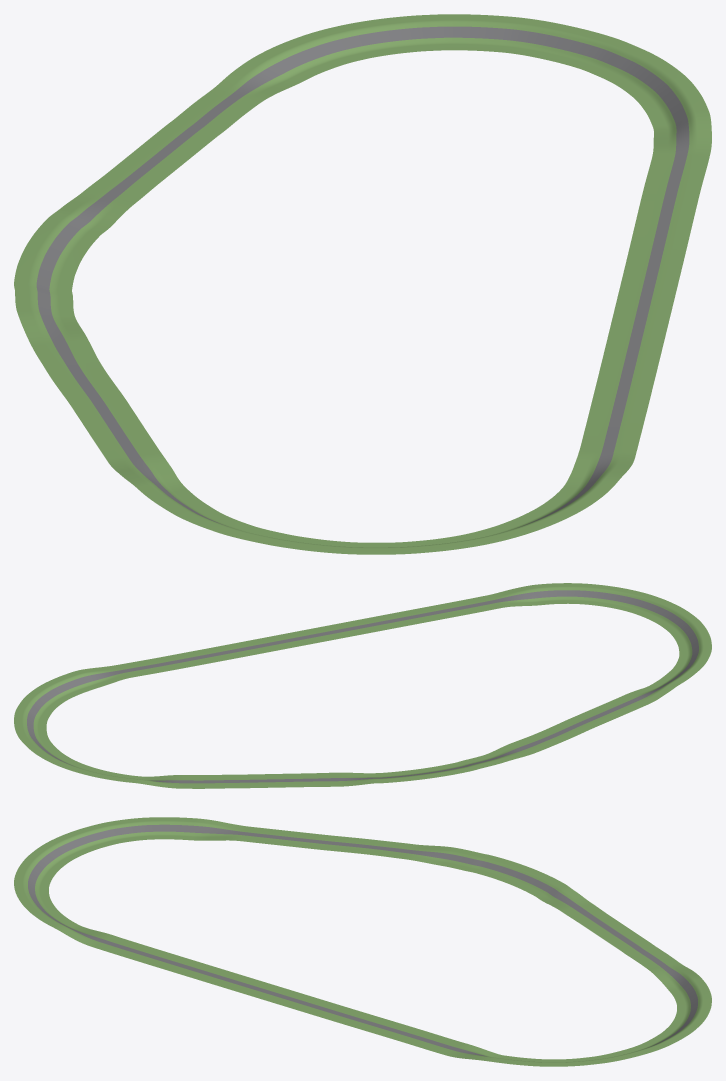
File: road_mesh.glb
3 views of the same model, one above another, from view 1: azimuth 30°, elevation 25°; view 2: azimuth 150°, elevation 25°; view 3: azimuth 270°, elevation 25° (orthographic). The views are drawn at different scales.
Visible parts, largest first — view 1: road_17, road_18, road_16, road_15, road_19, road_22, road_14, road_21, road_01, road_00, road_12, road_10 (+11 smaller); view 2: road_07, road_08, road_06, road_15, road_14, road_05, road_12, road_10, road_09, road_11, road_13, road_16 (+11 smaller); view 3: road_04, road_05, road_00, road_22, road_06, road_03, road_01, road_21, road_19, road_02, road_12, road_10 (+11 smaller).
Part boxes in pixels (left/top/right/bottom): road_17: left=380, top=14, right=527, bottom=53; road_18: left=260, top=19, right=396, bottom=81; road_16: left=511, top=18, right=648, bottom=79; road_15: left=607, top=52, right=707, bottom=124; road_19: left=185, top=54, right=302, bottom=121; road_22: left=19, top=207, right=114, bottom=271; road_14: left=648, top=108, right=711, bottom=175; road_21: left=62, top=159, right=174, bottom=222; road_01: left=20, top=320, right=106, bottom=379; road_00: left=14, top=260, right=77, bottom=323; road_12: left=621, top=228, right=690, bottom=286; road_10: left=593, top=339, right=663, bottom=397; road_07: left=566, top=583, right=645, bottom=611; road_08: left=486, top=583, right=566, bottom=608; road_06: left=628, top=593, right=699, bottom=632; road_15: left=22, top=672, right=90, bottom=711; road_14: left=71, top=660, right=153, bottom=689; road_05: left=670, top=620, right=711, bottom=660; road_12: left=210, top=635, right=292, bottom=660; road_10: left=348, top=608, right=430, bottom=634; road_09: left=418, top=595, right=499, bottom=621; road_11: left=279, top=622, right=360, bottom=647; road_13: left=142, top=648, right=222, bottom=673; road_16: left=14, top=700, right=52, bottom=739; road_04: left=118, top=817, right=204, bottom=841; road_05: left=45, top=820, right=128, bottom=859; road_00: left=433, top=846, right=518, bottom=879; road_22: left=497, top=863, right=575, bottom=903; road_06: left=14, top=843, right=72, bottom=887; road_03: left=201, top=819, right=285, bottom=845; road_01: left=356, top=838, right=443, bottom=863; road_21: left=547, top=891, right=619, bottom=930; road_19: left=634, top=951, right=701, bottom=990; road_02: left=278, top=830, right=363, bottom=853; road_12: left=291, top=996, right=376, bottom=1028; road_10: left=160, top=956, right=245, bottom=987.
Size of the model in its own units: 1281 by 20.74 by 1510.
